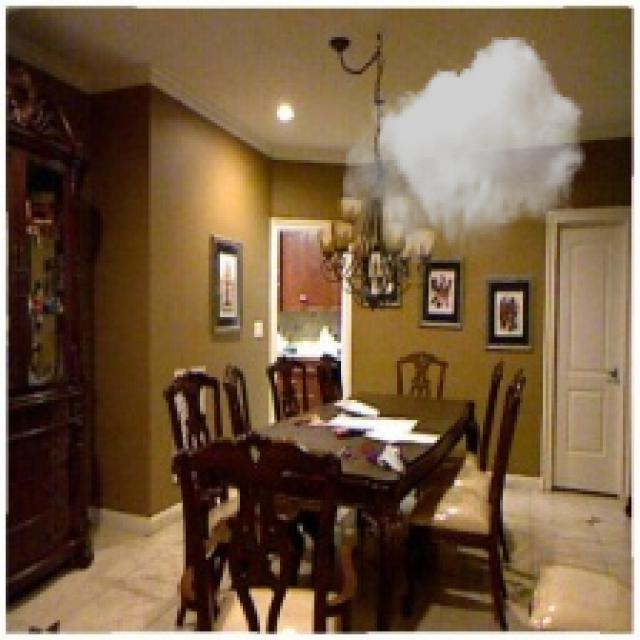smoke: (343, 37, 586, 263)
